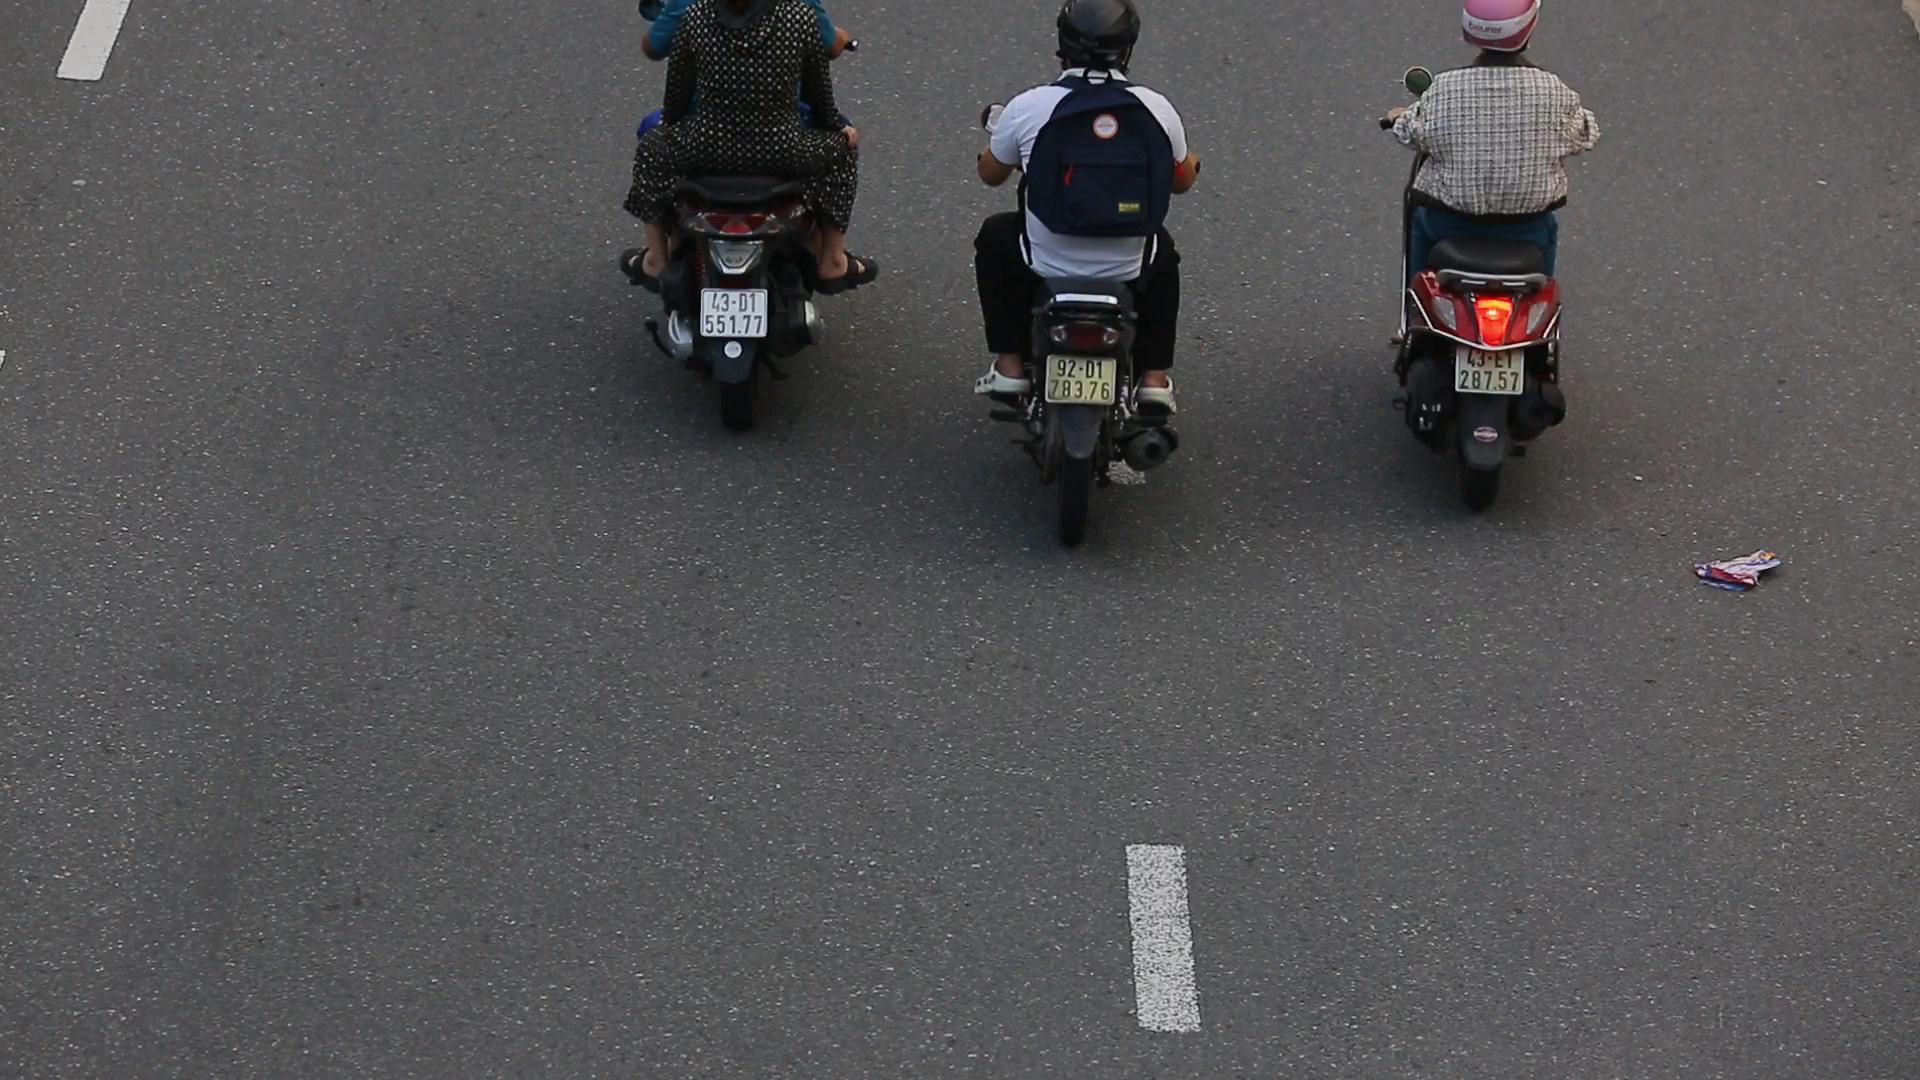motobike: (964, 0, 1228, 576), (1390, 0, 1606, 547)
